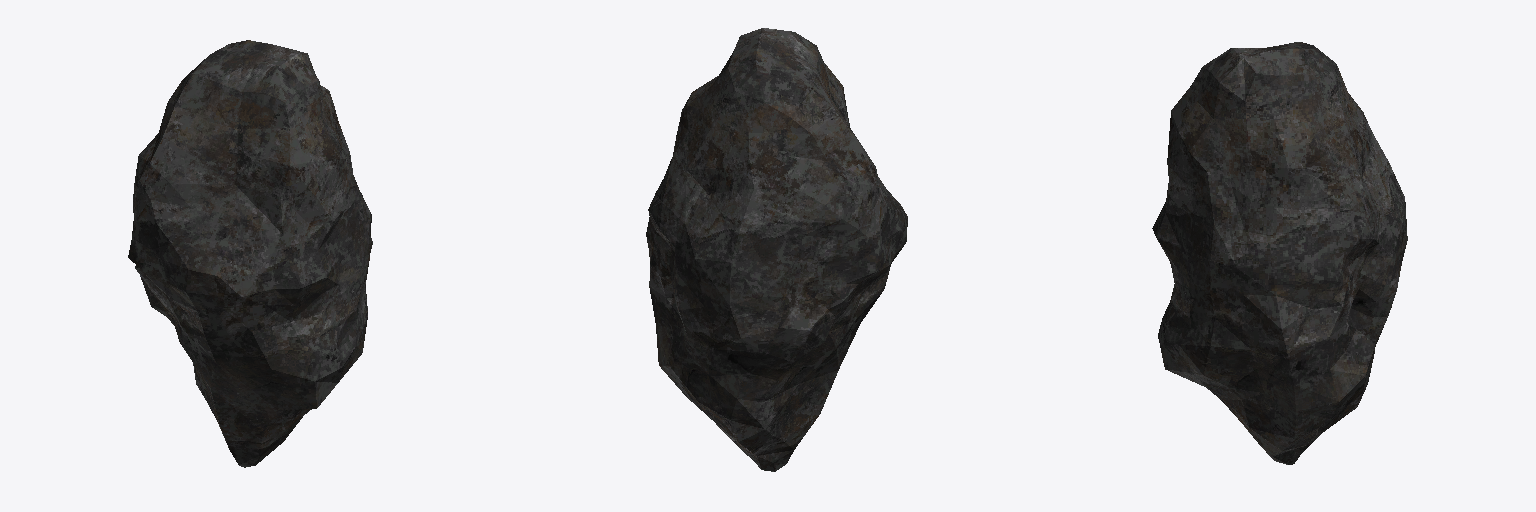
3 renders of one model, left to right at view 1: azimuth 30°, elevation 25°; view 2: azimuth 150°, elevation 25°; view 3: azimuth 270°, elevation 25°, orthographic.
Parts seen in each view (by area): view 1: st_space_debris_002.mo_rock_02.md; view 2: st_space_debris_002.mo_rock_02.md; view 3: st_space_debris_002.mo_rock_02.md.
Boxes of the visible parts, <box> form: st_space_debris_002.mo_rock_02.md: <box>128,40,372,467</box>; st_space_debris_002.mo_rock_02.md: <box>646,28,907,471</box>; st_space_debris_002.mo_rock_02.md: <box>1152,42,1407,464</box>.
Bounding box in the file's own units: 13.62 × 23.34 × 12.77.
1 materials, 1 textured.